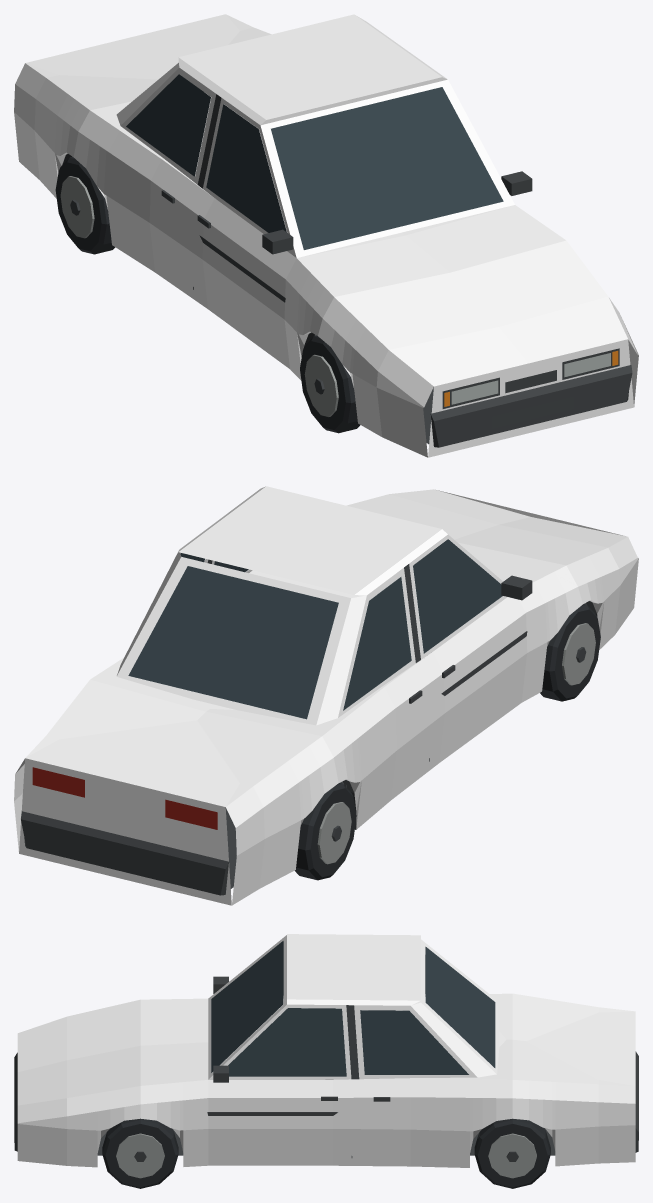
Rendered from varenna_lucciola.glb.
3 renders of one model, top to bottom at view 1: azimuth 30°, elevation 25°; view 2: azimuth 150°, elevation 25°; view 3: azimuth 270°, elevation 25°, orthographic. The views are drawn at different scales.
Visible parts, largest first — view 1: varenna_lucciola; view 2: varenna_lucciola; view 3: varenna_lucciola.
Part boxes in pixels (left/top/right/bottom): varenna_lucciola: left=14, top=14, right=638, bottom=457; varenna_lucciola: left=14, top=486, right=638, bottom=905; varenna_lucciola: left=14, top=934, right=638, bottom=1188.
Bounding box in the file's own units: 1.79 × 1.49 × 4.8.
8 materials, 1 textured.
